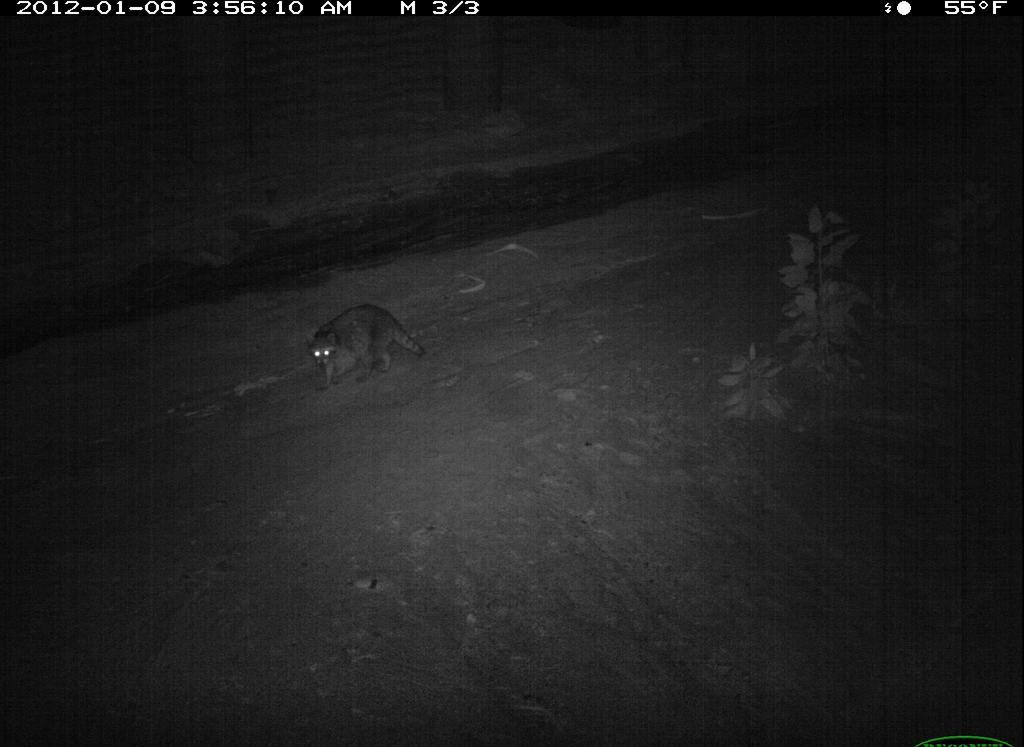raccoon: (305, 295, 431, 397)
